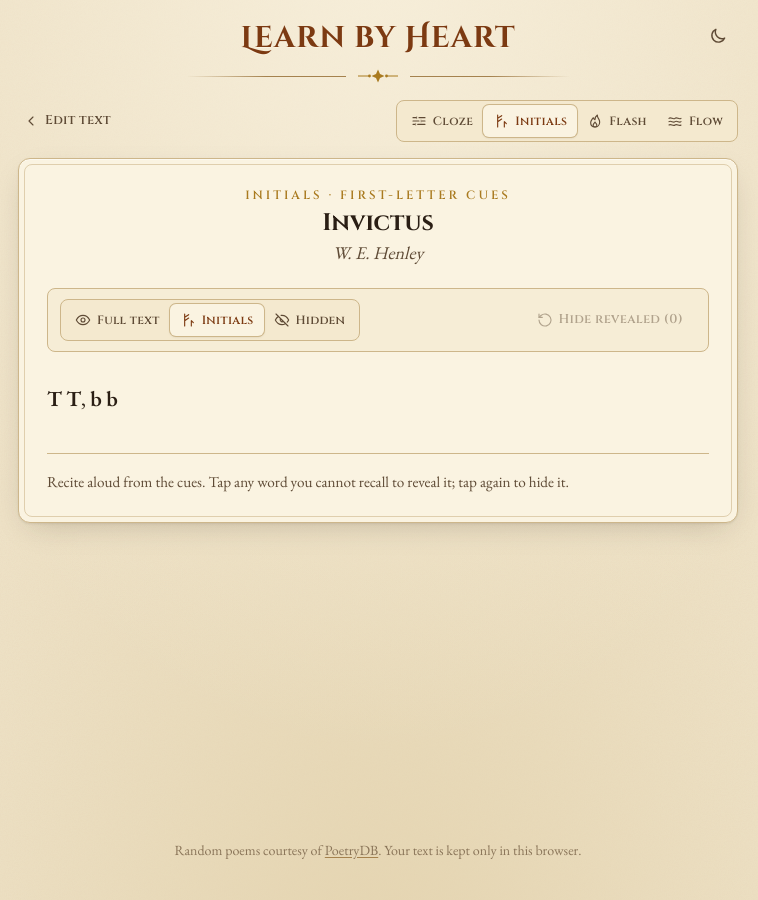
Test: initials mode › shows first letters and reveals words on tap
Click the button named "Reveal word 3": coordinates (96, 398) [90,376,102,421]
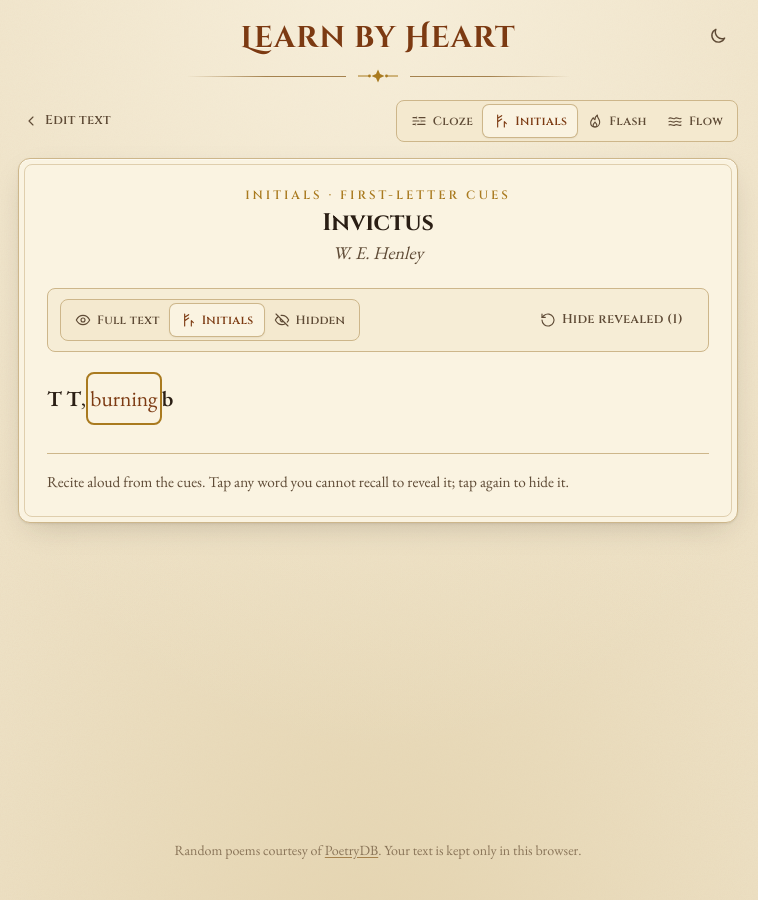
expect the button "burning" is pressed: met, box [90,376,158,421]
Click the radio button labelled "Full text": coordinates (117, 320) [75,312,160,328]
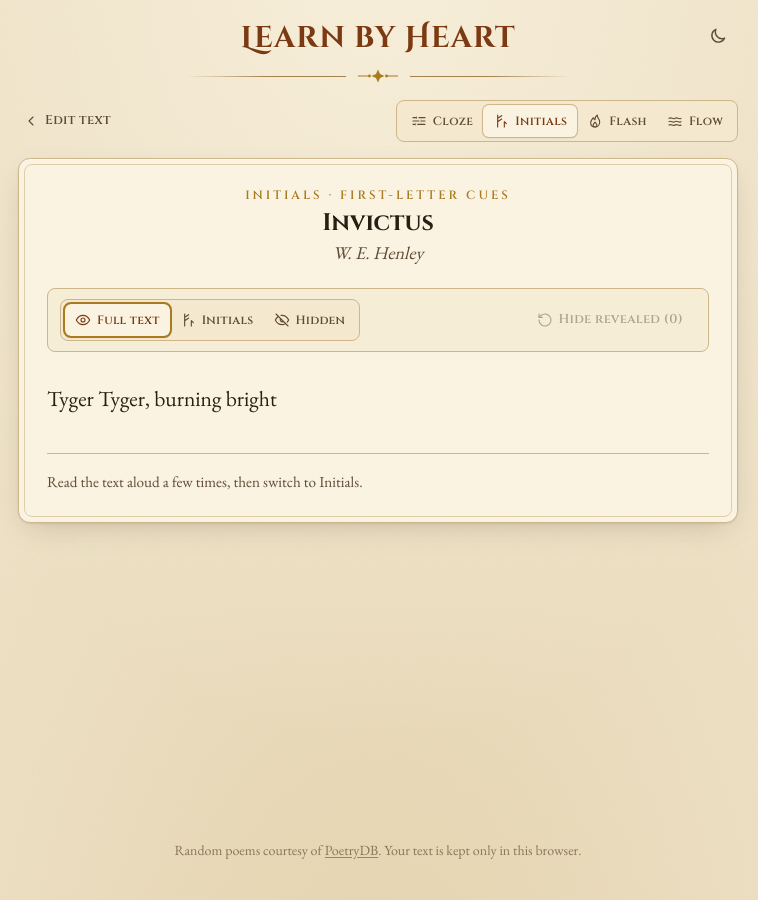
expect the button "bright" is shown: met, box [226,376,277,421]
